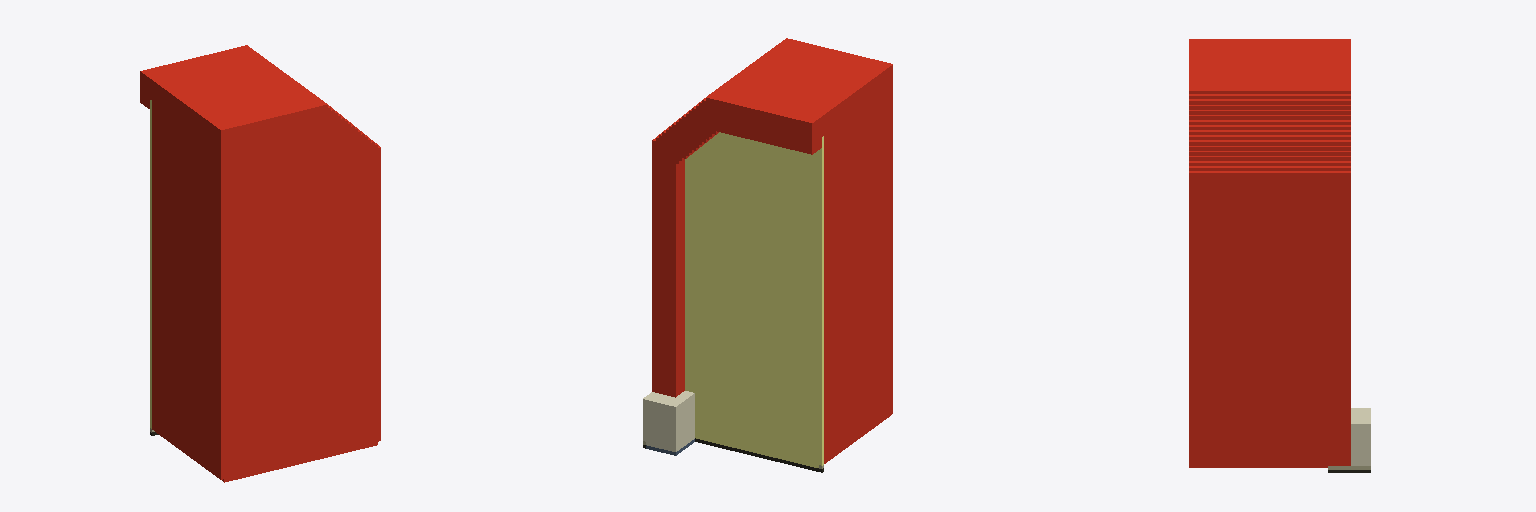
3 renders of one model, left to right at view 1: azimuth 30°, elevation 25°; view 2: azimuth 150°, elevation 25°; view 3: azimuth 270°, elevation 25°, orthographic.
Parts seen in each view (by area): view 1: object 1; view 2: object 1; view 3: object 1.
Part boxes in pixels (x1,y1,x2,y2): object 1: (140,45,380,482); object 1: (643,38,892,472); object 1: (1189,39,1370,472).
Size of the model in its own units: 4.8 by 10.2 by 4.7.
1 materials, 1 textured.